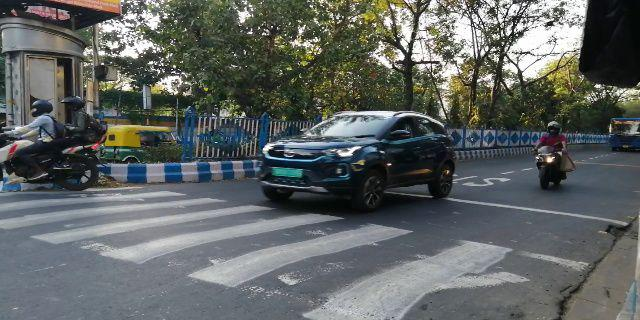Car: (255, 107, 459, 211)
Motorbike: (1, 95, 106, 199), (528, 118, 575, 193)
